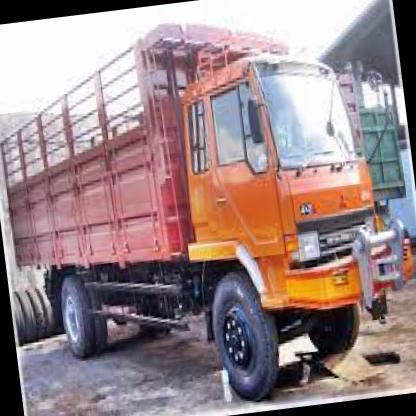truck: (169, 36, 407, 404)
